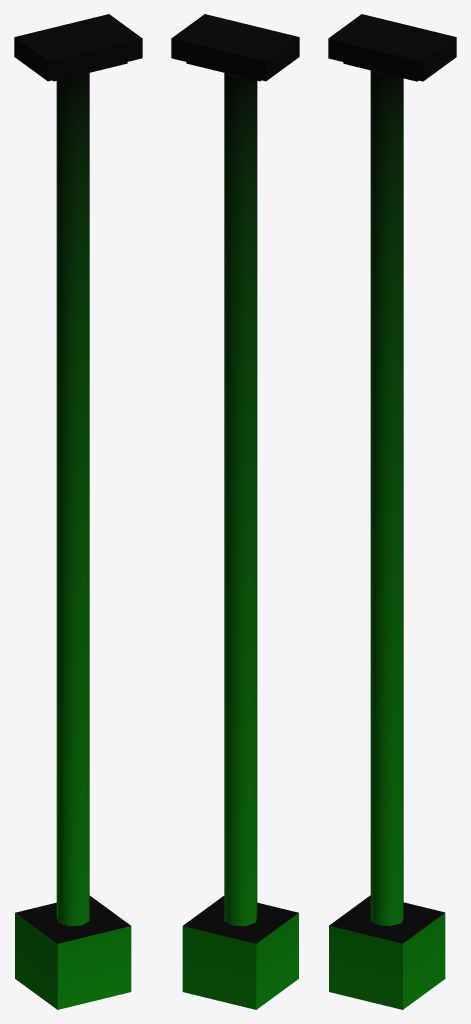
Rendered from streetlight.glb.
3 views of the same model, side by side, from view 1: azimuth 30°, elevation 25°; view 2: azimuth 150°, elevation 25°; view 3: azimuth 330°, elevation 25° (orthographic).
Parts seen in each view (by area): view 1: lod0; view 2: lod0; view 3: lod0.
Part boxes in pixels (<box>): lod0: <box>14,14,142,1009</box>; lod0: <box>171,14,299,1009</box>; lod0: <box>328,14,456,1009</box>.
Size of what is drawn, in the model's own units: 0.9 by 8.62 by 0.7.
